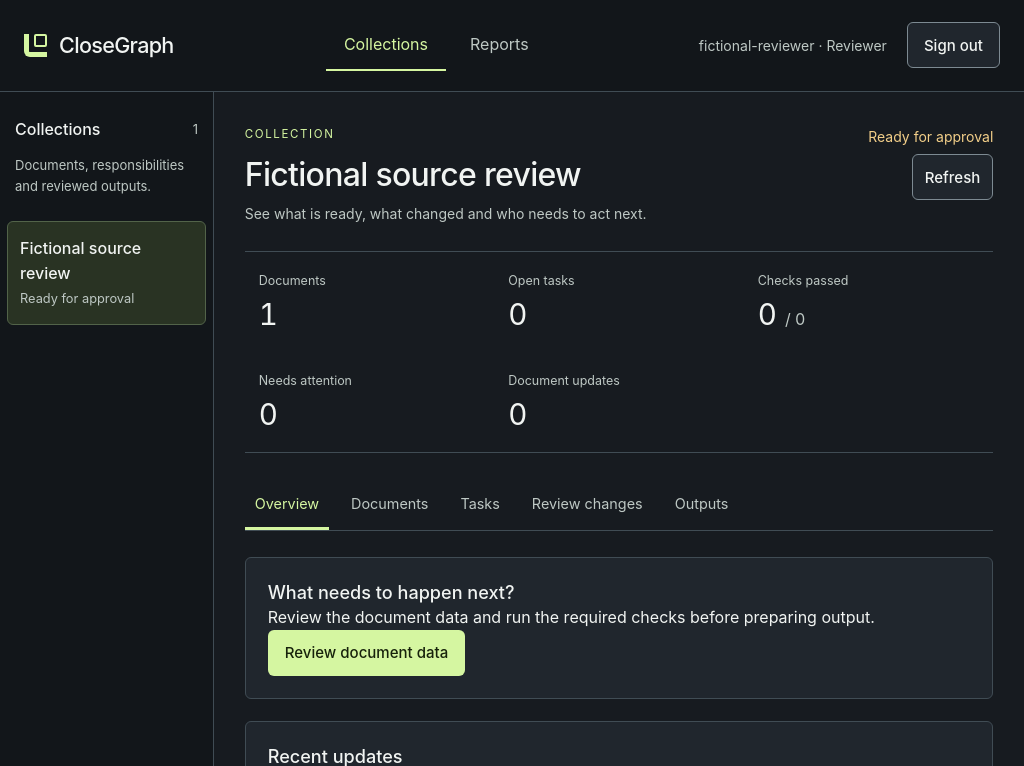
it: collection evidence review › requires an independent reviewer and inspection before approval, and keeps exports gated
This screenshot has width=1024, height=766.
Click the button "Outputs" at coordinates (702, 505), box [665,480,738,530]
(page scrolled)
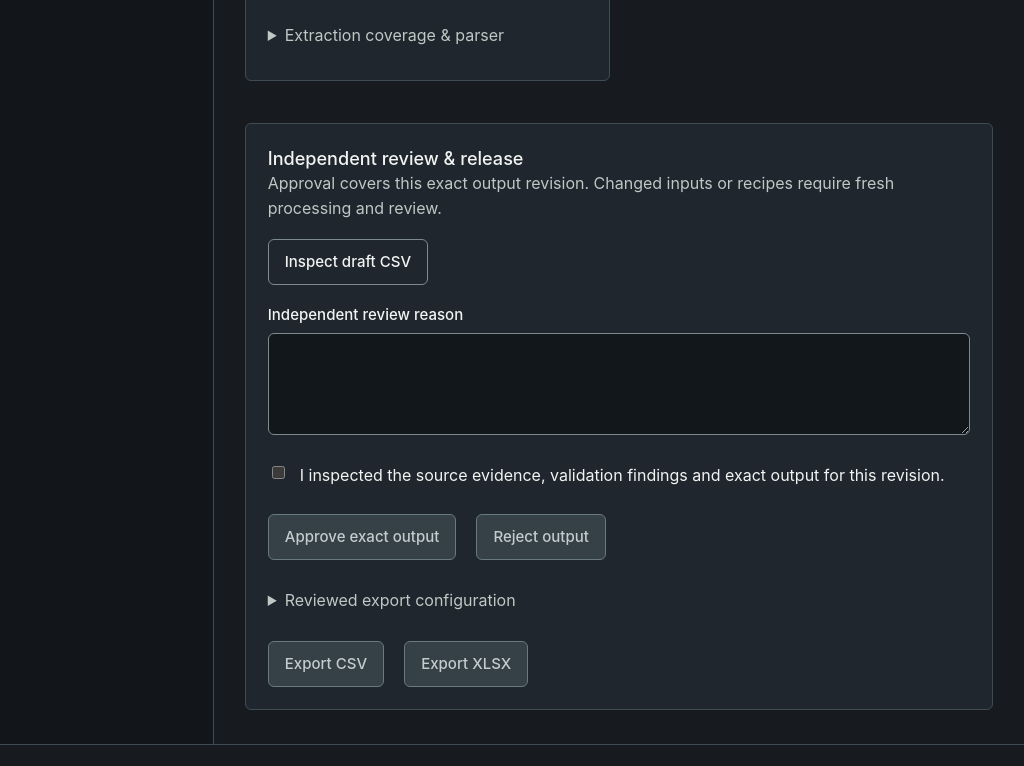
Expected: the button "Approve exact output" is disabled, [268,514,456,560]
Expected: the button "Export CSV" is disabled, [268,641,384,687]
Type "Compared original evidence, output and required checks." into the text box labelled "Independent review reason" at coordinates (619, 384), box [268,333,970,435]
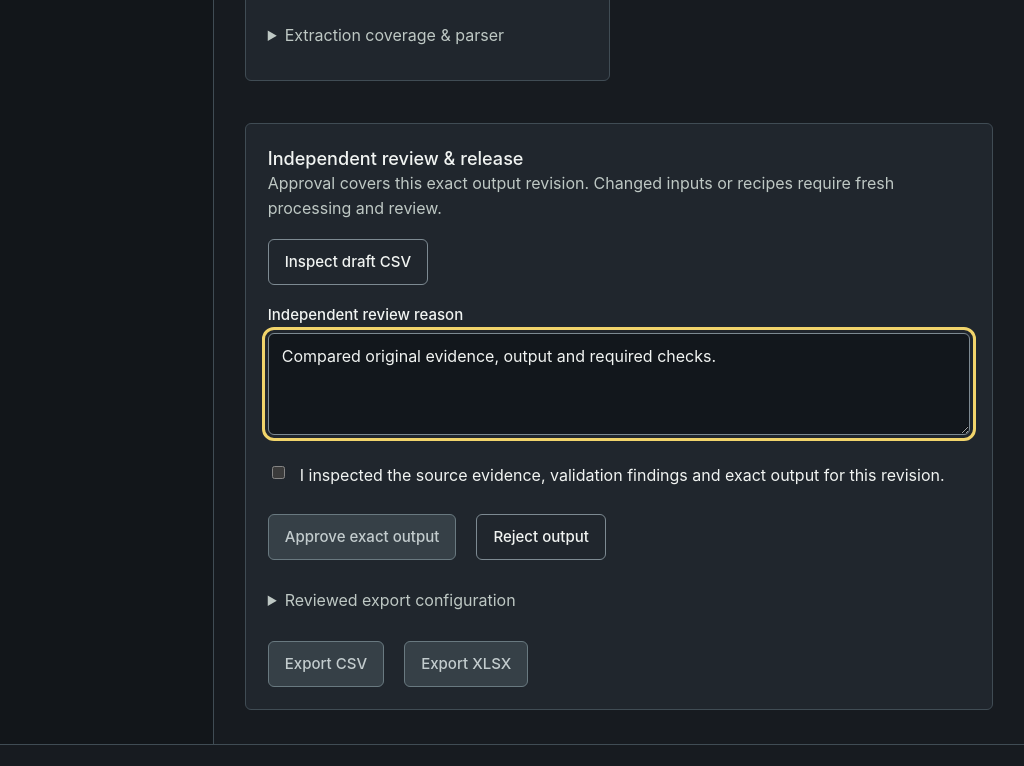
Click the checkbox labelled "I inspected the source evidence" at coordinates (278, 472), box [272,466,285,479]
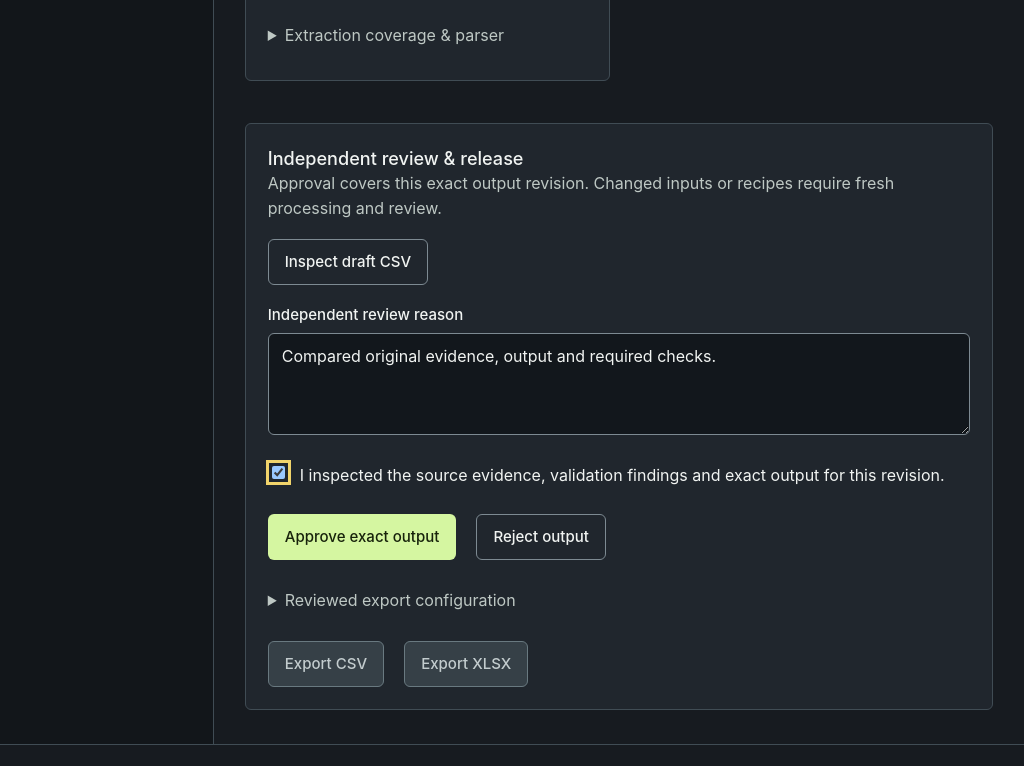
Click the button "Approve exact output" at coordinates (362, 537), box [268,514,456,560]
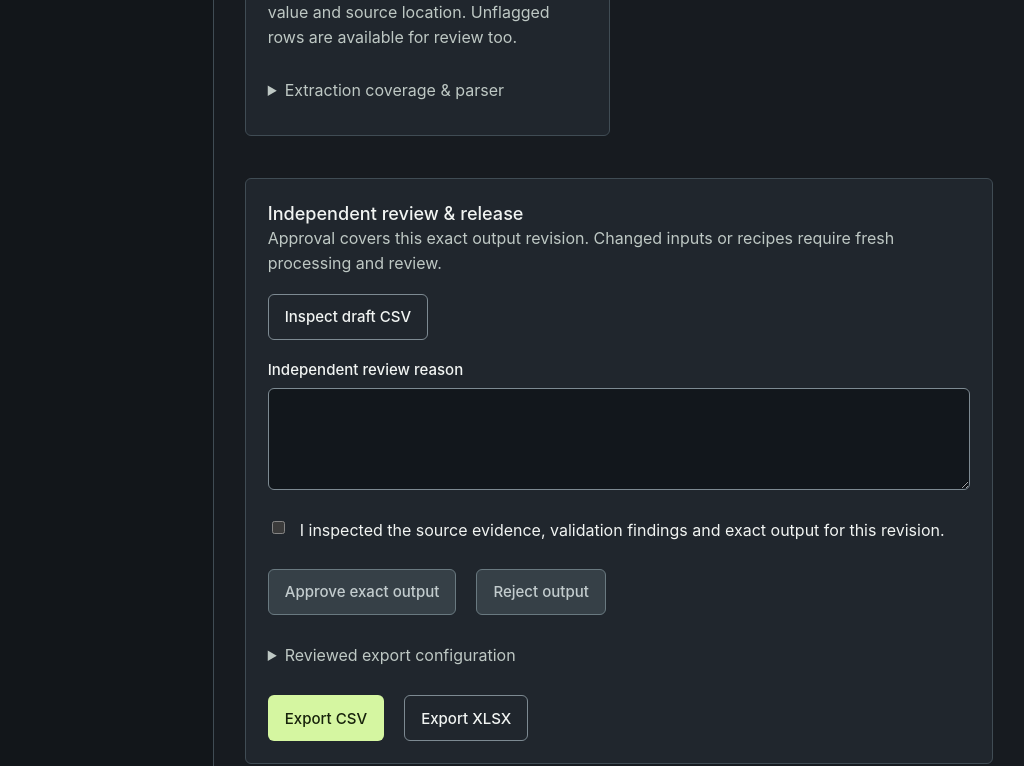
Expected: the button "Export CSV" is enabled, [268,695,384,741]
